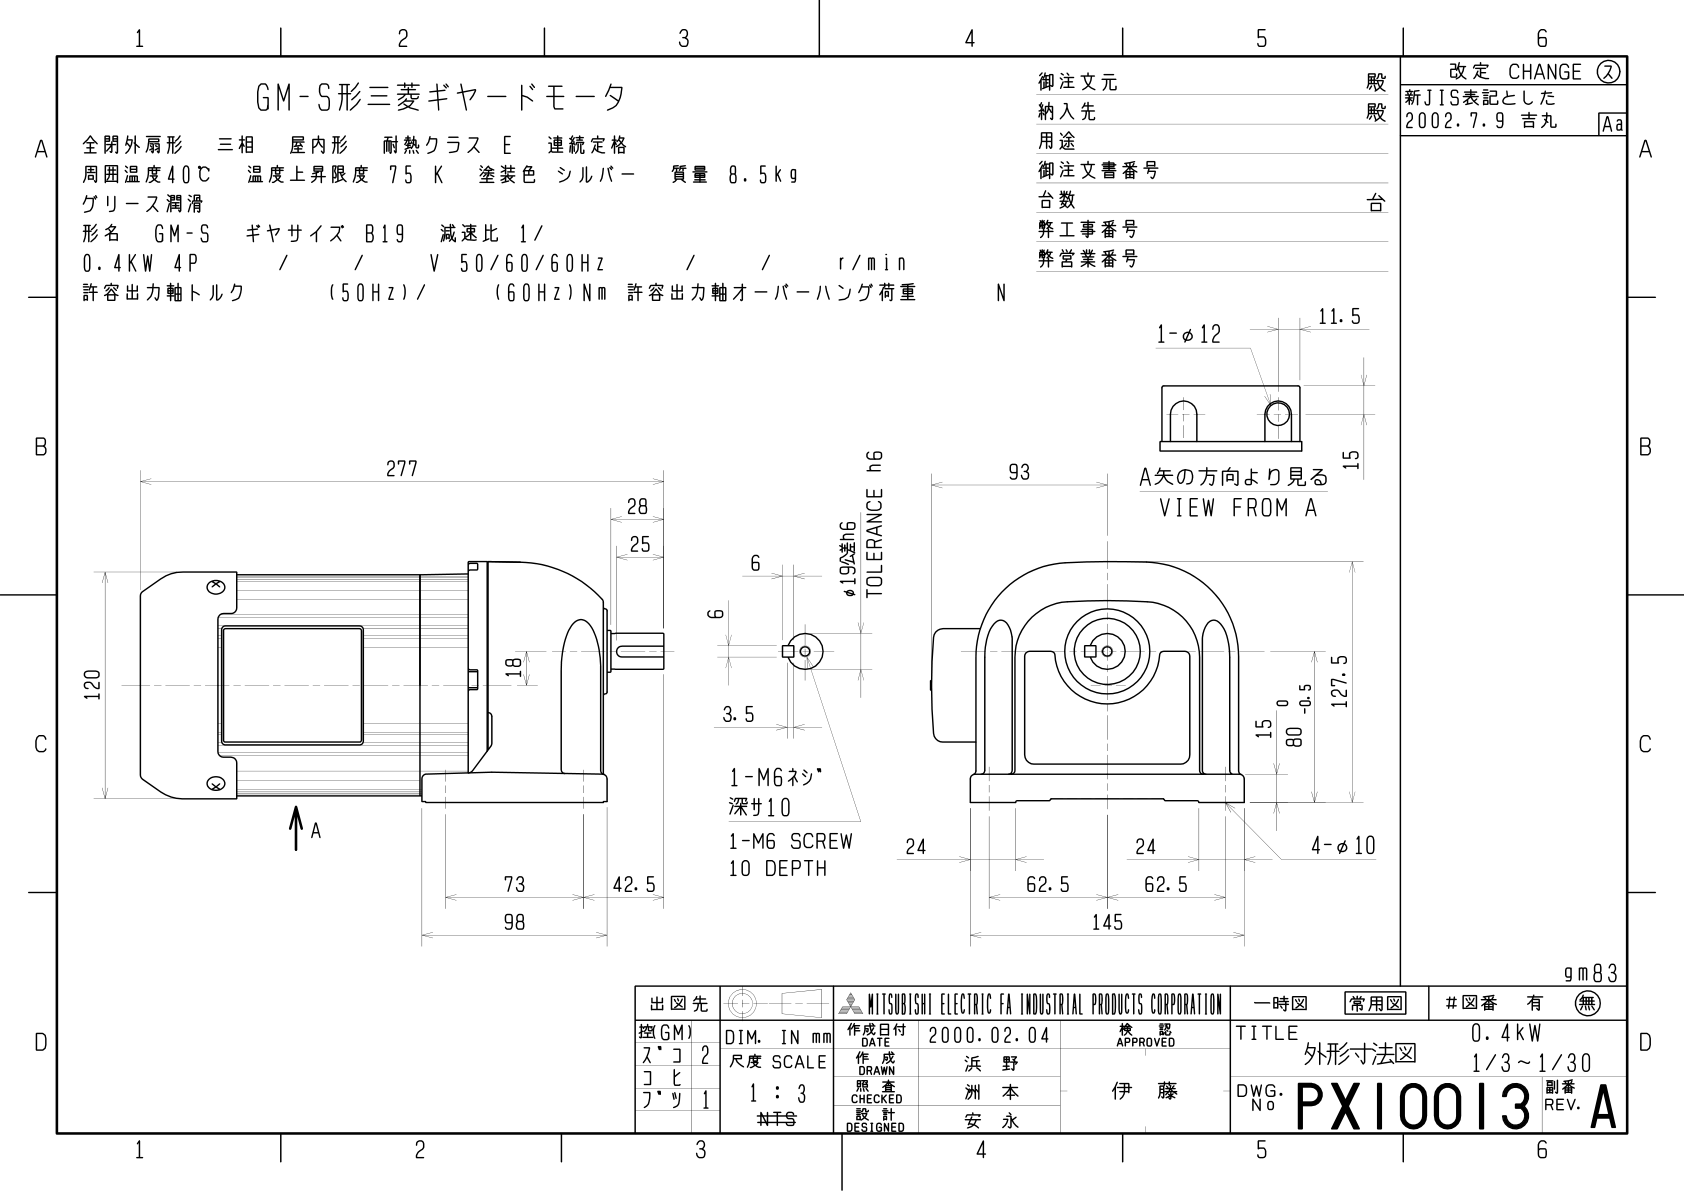GM_S_屋内＿三相_脚: (73, 304, 1393, 969)
